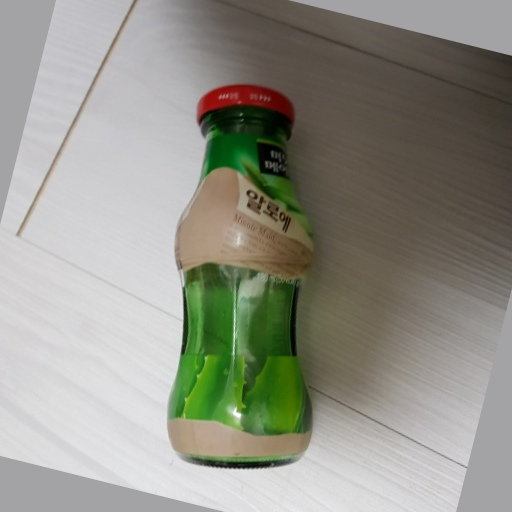Glass_4: (163, 86, 321, 471)
